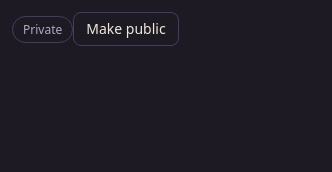
Scenario: VisibilityToggle › keeps the current visibility and shows the error when saving fails
Click the button "Make public": point(126, 29) [73,12,179,46]
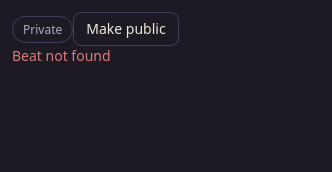
Expected: the text "Private" is shown, [12,16,73,43]
Expected: the message reads "Beat not found", [12,46,111,65]
